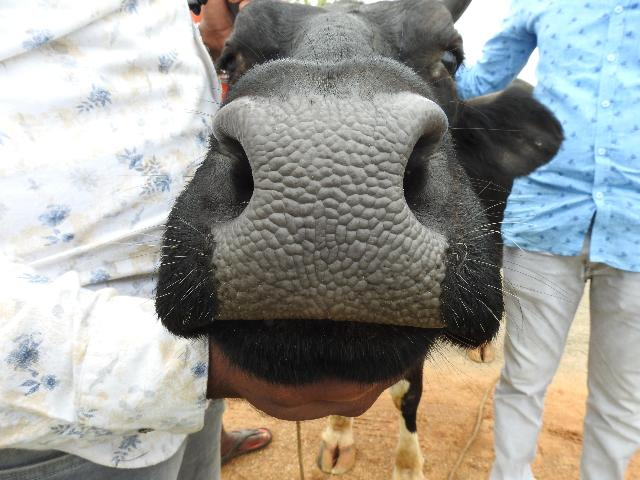Muzzle: (248, 106, 404, 314)
